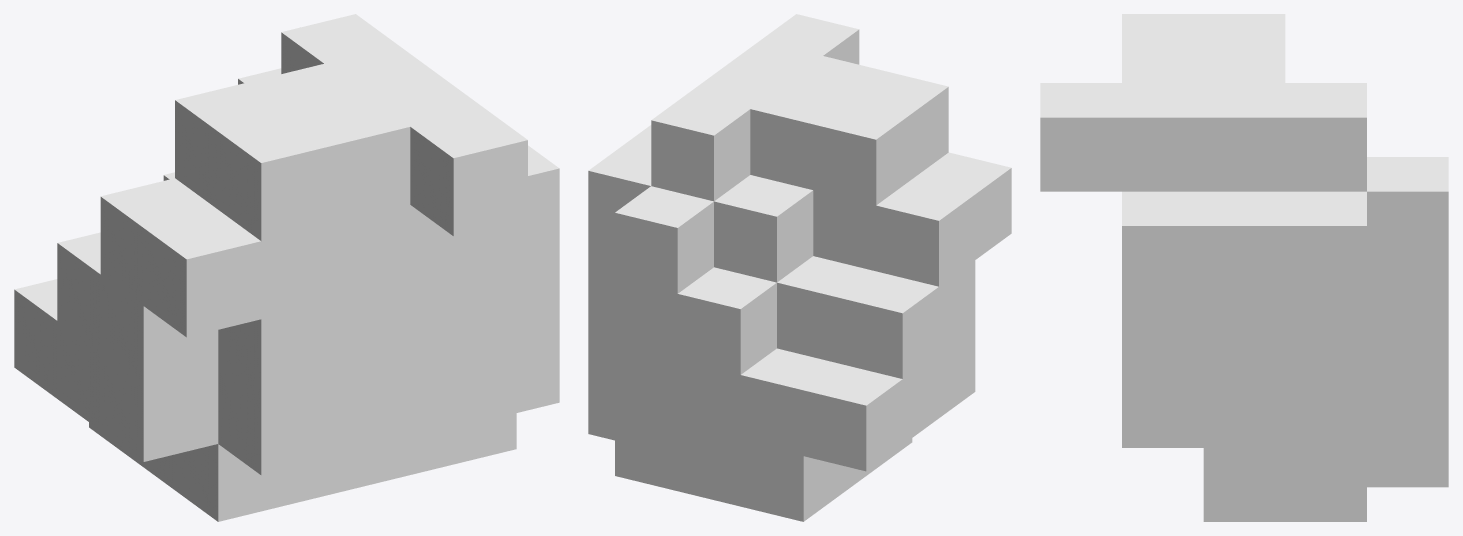
File: voxel_small 02_optimized.fbx
3 views of the same model, side by side, from view 1: azimuth 30°, elevation 25°; view 2: azimuth 150°, elevation 25°; view 3: azimuth 270°, elevation 25° (orthographic). The views are drawn at different scales.
Visible parts, largest first — view 1: voxelize; view 2: voxelize; view 3: voxelize.
Part boxes in pixels (<box>): voxelize: <box>14,14,559,521</box>; voxelize: <box>588,14,1011,521</box>; voxelize: <box>1040,14,1448,521</box>.
Size of the model in its own units: 0.6 by 0.6 by 0.6.
